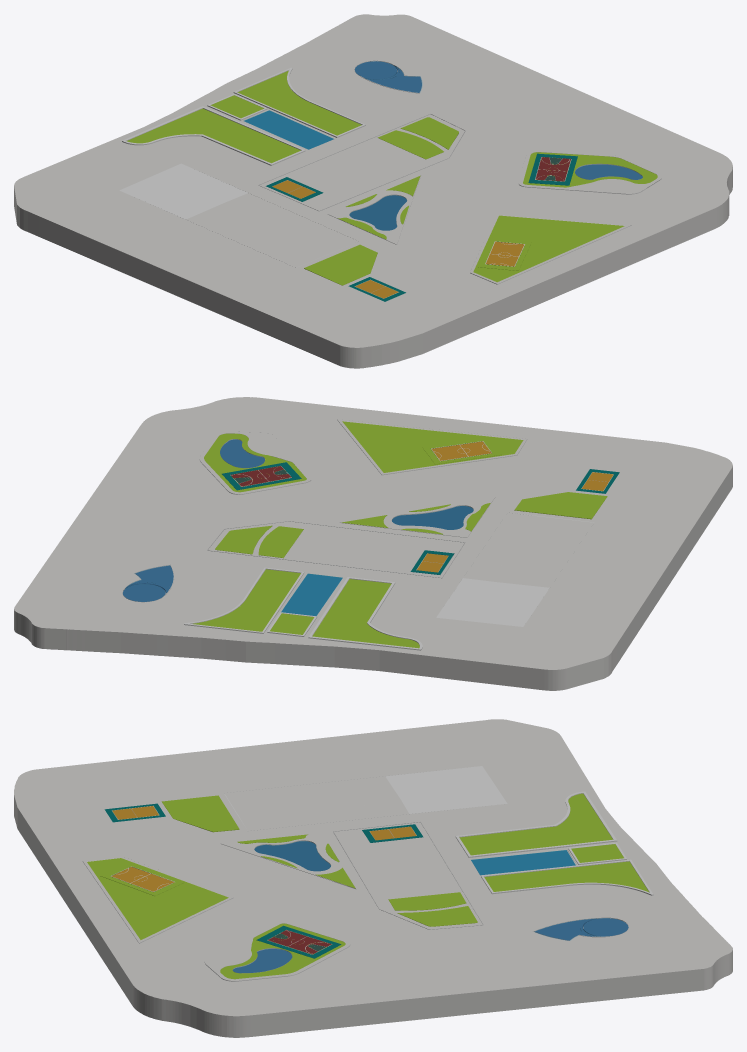
The model's file is yer_Import3DFiles.glb.
3 views of the same model, one above another, from view 1: azimuth 30°, elevation 25°; view 2: azimuth 150°, elevation 25°; view 3: azimuth 270°, elevation 25° (orthographic). The views are drawn at different scales.
Parts seen in each view (by area): view 1: mesh_material_from_multipatch_1, mesh_material_from_multipatch_8, mesh_material_from_multipatch_4, mesh_material_from_multipatch_6, mesh_material_from_multipatch_2, mesh_material_from_multipatch_14, mesh_material_from_multipatch_13, mesh_material_from_multipatch_3, mesh_material_from_multipatch_7, mesh_material_from_multipatch_9; view 2: mesh_material_from_multipatch_1, mesh_material_from_multipatch_8, mesh_material_from_multipatch_4, mesh_material_from_multipatch_6, mesh_material_from_multipatch_2, mesh_material_from_multipatch_14, mesh_material_from_multipatch_13, mesh_material_from_multipatch_3, mesh_material_from_multipatch_7, mesh_material_from_multipatch_9, mesh_material_from_multipatch_10; view 3: mesh_material_from_multipatch_1, mesh_material_from_multipatch_8, mesh_material_from_multipatch_4, mesh_material_from_multipatch_6, mesh_material_from_multipatch_2, mesh_material_from_multipatch_14, mesh_material_from_multipatch_13, mesh_material_from_multipatch_3, mesh_material_from_multipatch_7, mesh_material_from_multipatch_9.
Part boxes in pixels (x1,y1,x2,y2): mesh_material_from_multipatch_1: (14, 14, 732, 368); mesh_material_from_multipatch_8: (127, 71, 657, 285); mesh_material_from_multipatch_4: (119, 67, 661, 298); mesh_material_from_multipatch_6: (244, 61, 642, 230); mesh_material_from_multipatch_2: (355, 61, 642, 179); mesh_material_from_multipatch_14: (272, 157, 570, 298); mesh_material_from_multipatch_13: (244, 110, 333, 149); mesh_material_from_multipatch_3: (266, 153, 577, 301); mesh_material_from_multipatch_7: (350, 195, 406, 230); mesh_material_from_multipatch_9: (535, 157, 570, 181); mesh_material_from_multipatch_1: (14, 397, 732, 690); mesh_material_from_multipatch_8: (193, 421, 607, 648); mesh_material_from_multipatch_4: (184, 419, 613, 650); mesh_material_from_multipatch_6: (123, 439, 473, 615); mesh_material_from_multipatch_2: (123, 439, 264, 601); mesh_material_from_multipatch_14: (231, 441, 613, 572); mesh_material_from_multipatch_13: (281, 573, 342, 615); mesh_material_from_multipatch_3: (222, 441, 619, 574); mesh_material_from_multipatch_7: (392, 506, 473, 529); mesh_material_from_multipatch_9: (231, 466, 291, 486); mesh_material_from_multipatch_10: (207, 521, 465, 578); mesh_material_from_multipatch_1: (14, 719, 732, 1037); mesh_material_from_multipatch_8: (87, 793, 649, 979); mesh_material_from_multipatch_4: (82, 766, 653, 981); mesh_material_from_multipatch_6: (233, 841, 628, 973); mesh_material_from_multipatch_2: (233, 918, 628, 972); mesh_material_from_multipatch_14: (111, 806, 416, 954); mesh_material_from_multipatch_13: (471, 850, 575, 874); mesh_material_from_multipatch_3: (104, 803, 423, 958); mesh_material_from_multipatch_7: (254, 841, 330, 870); mesh_material_from_multipatch_9: (268, 930, 331, 954).
Size of the model in its own units: 396 by 14.14 by 405.
